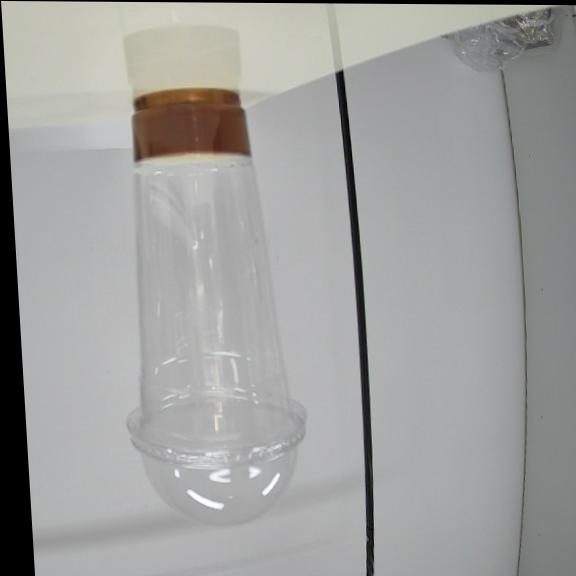Plastik: (126, 89, 304, 525)
